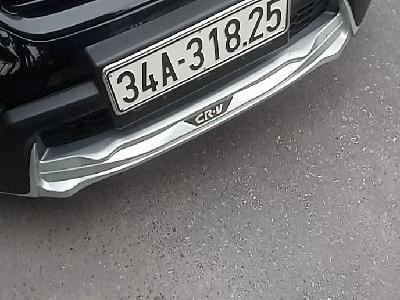number: (100, 1, 290, 115)
